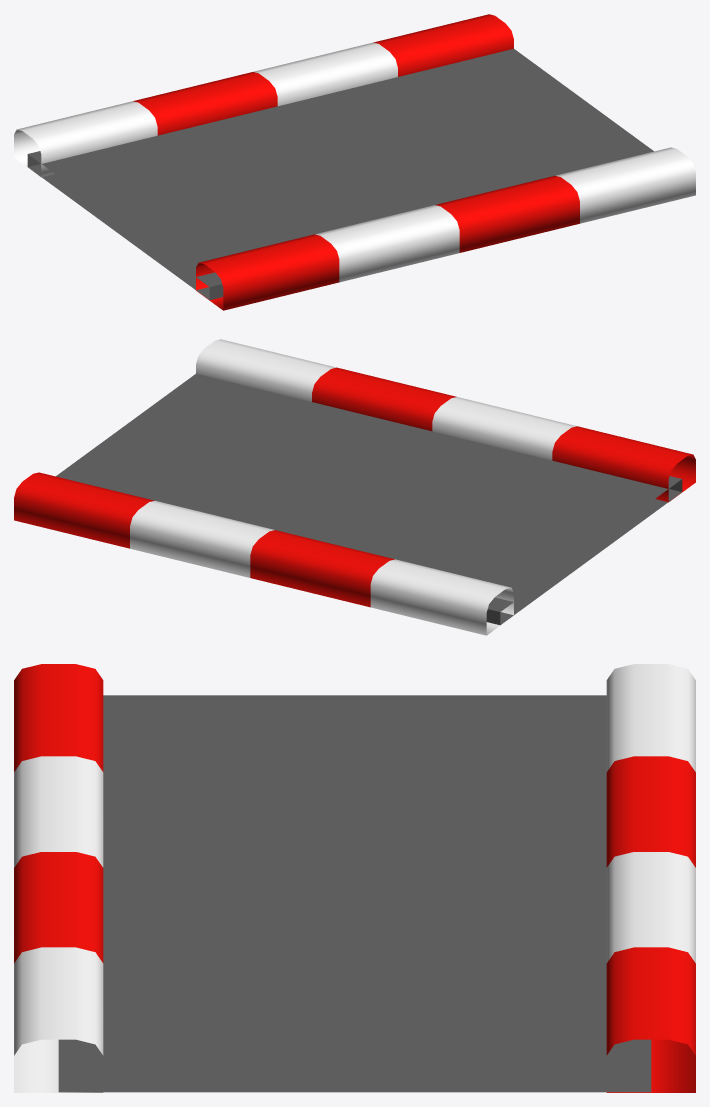
Rendered from StraightTrack01.fbx.
The picture shows the model from 3 angles, top to bottom: view 1: azimuth 30°, elevation 25°; view 2: azimuth 150°, elevation 25°; view 3: azimuth 270°, elevation 25°; orthographic projection. The views are drawn at different scales.
Parts seen in each view (by area): view 1: StraightTrack01; view 2: StraightTrack01; view 3: StraightTrack01.
Boxes of the visible parts, x1,y1,x2,y2 form: StraightTrack01: [14, 14, 695, 310]; StraightTrack01: [14, 339, 695, 635]; StraightTrack01: [14, 664, 695, 1092].
Size of the model in its own units: 2700 by 178 by 2072.
